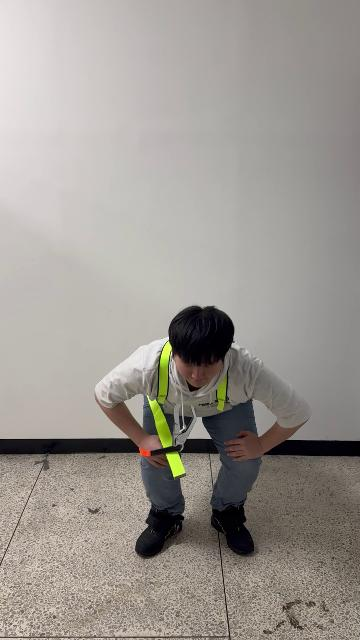helmet_not_worn: (167, 302, 237, 367)
shoe_worn: (135, 507, 184, 556), (211, 504, 254, 553)
vest_worn: (148, 339, 228, 481)
